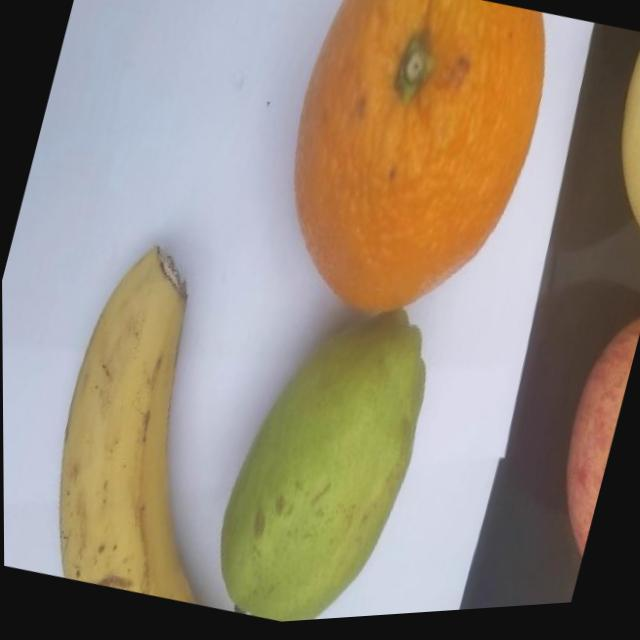Apple: (537, 311, 640, 570)
Orange: (251, 0, 565, 356)
